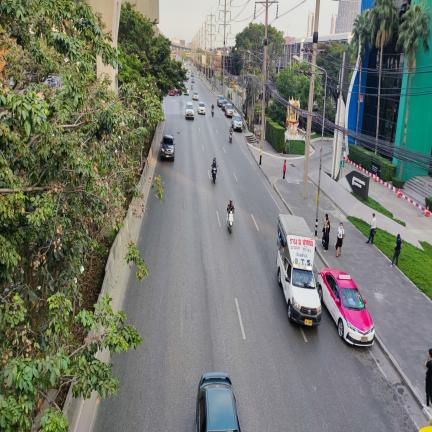car: (231, 113, 242, 131), (185, 102, 194, 120), (217, 95, 225, 107), (198, 102, 205, 115), (221, 99, 228, 111), (193, 91, 198, 100), (184, 87, 189, 95), (191, 78, 195, 83)
human: (389, 234, 402, 268), (336, 222, 345, 257), (366, 213, 376, 244), (322, 214, 329, 248), (324, 221, 330, 253), (258, 147, 262, 165), (283, 160, 286, 179)
motorbike: (227, 210, 233, 233), (212, 166, 217, 183), (229, 132, 232, 143), (211, 108, 214, 117), (191, 85, 193, 91)
pickup: (277, 214, 321, 326), (161, 135, 175, 161), (225, 103, 234, 117)
taxi: (317, 268, 375, 346)
